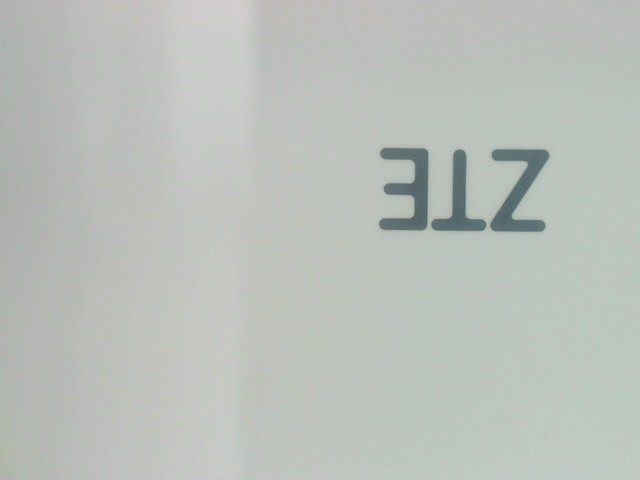AN_ZTE: (381, 138, 556, 234)
